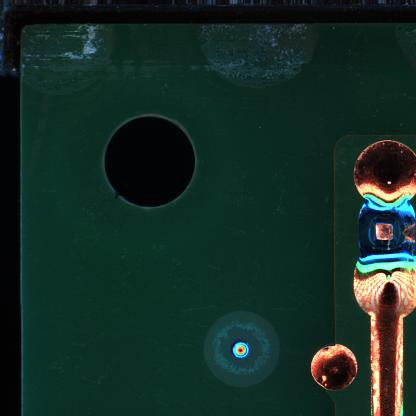spot: (357, 200, 416, 262)
